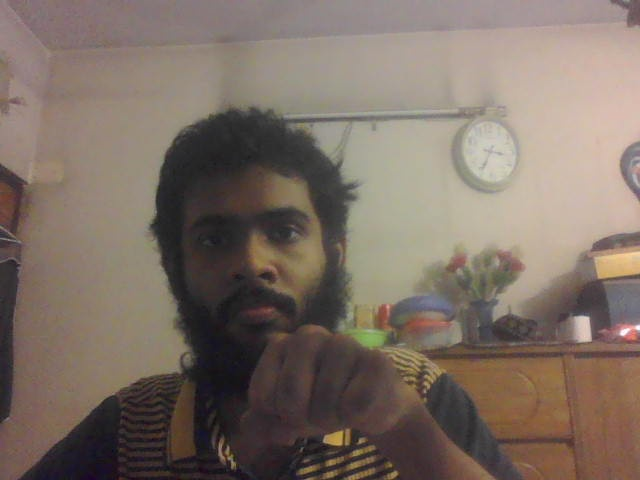Yes: (243, 324, 403, 448)
